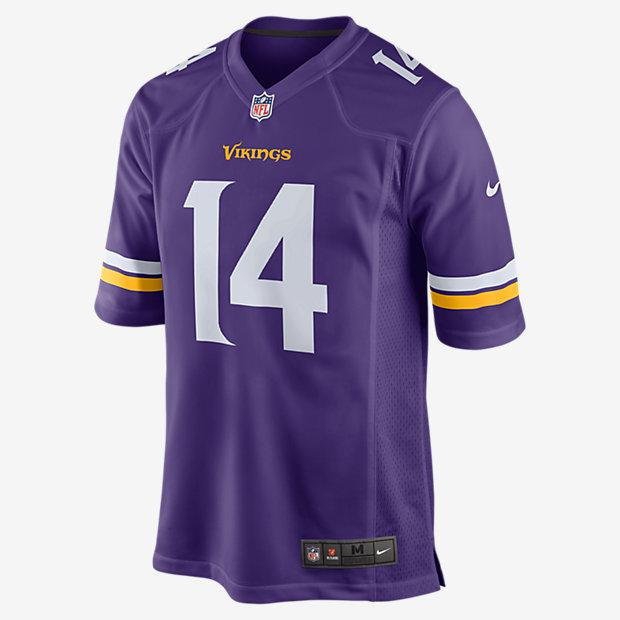teeshirt: (84, 12, 558, 617)
